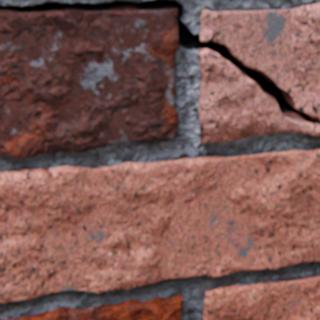brick: (0, 148, 319, 303), (0, 8, 179, 158), (203, 275, 319, 319), (8, 294, 184, 319)
broken_brick: (199, 3, 319, 142)
crack: (0, 0, 318, 123)
